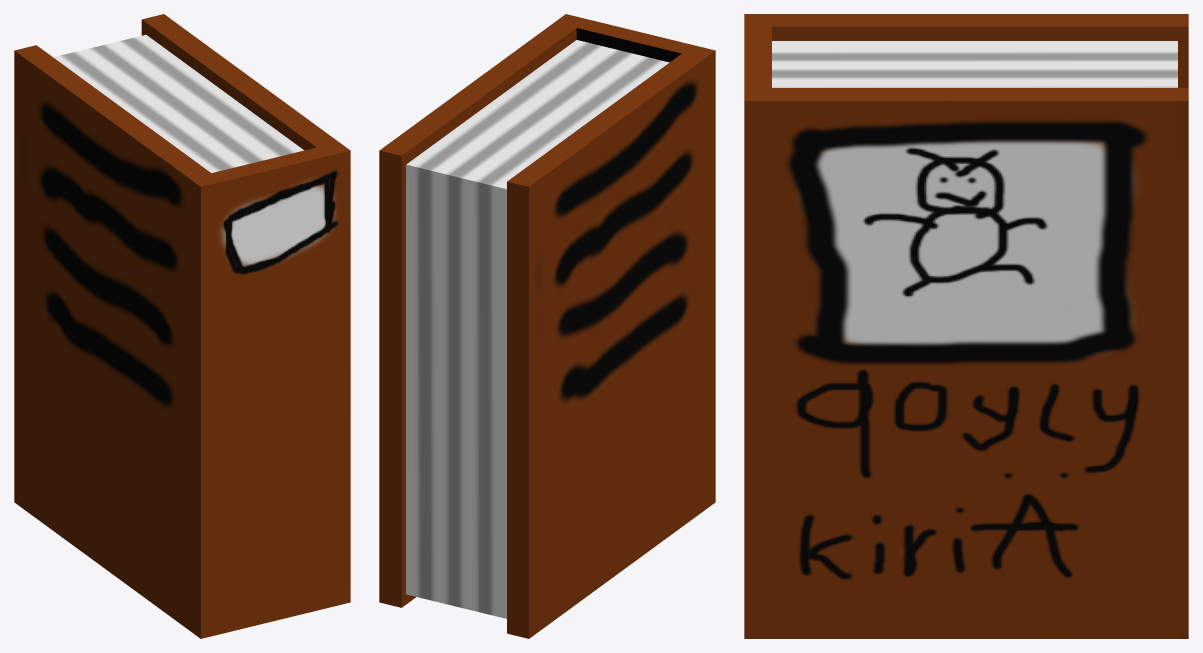
The model's file is book.fbx.
3 views of the same model, side by side, from view 1: azimuth 30°, elevation 25°; view 2: azimuth 150°, elevation 25°; view 3: azimuth 270°, elevation 25° (orthographic). The views are drawn at different scales.
Visible parts, largest first — view 1: book; view 2: book; view 3: book.
Boxes of the visible parts, left/top/right/bottom form: book: left=14, top=14, right=350, bottom=638; book: left=379, top=14, right=715, bottom=638; book: left=744, top=14, right=1188, bottom=638.
Bounding box in the file's own units: 69.3 × 200 × 150.
